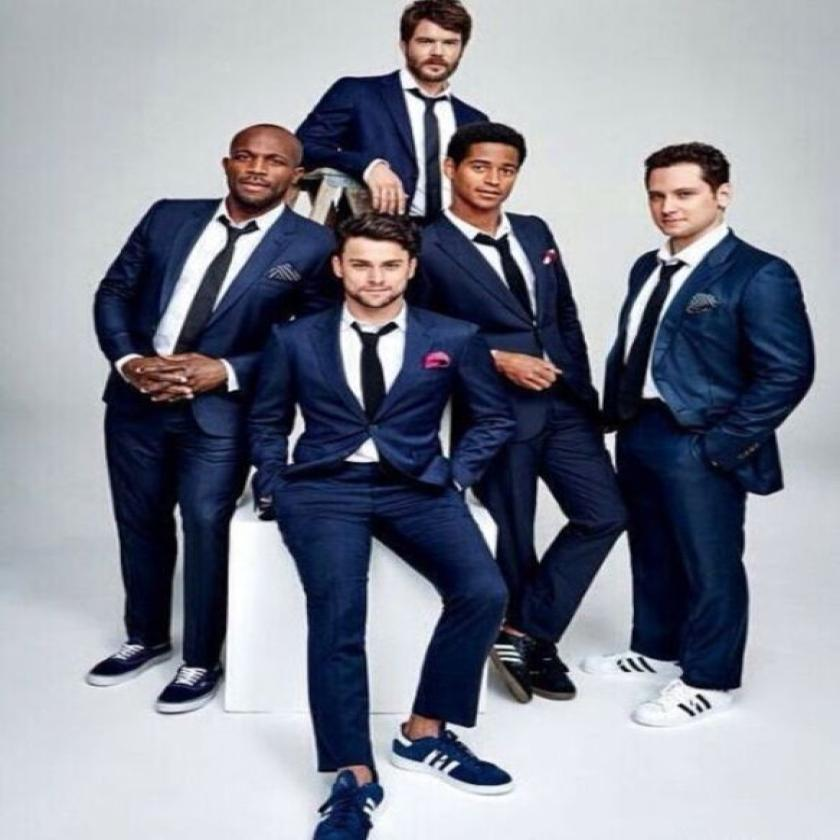Sin_casco: (211, 117, 311, 237), (639, 137, 741, 249), (330, 212, 429, 318), (444, 121, 535, 225), (391, 0, 472, 95)
